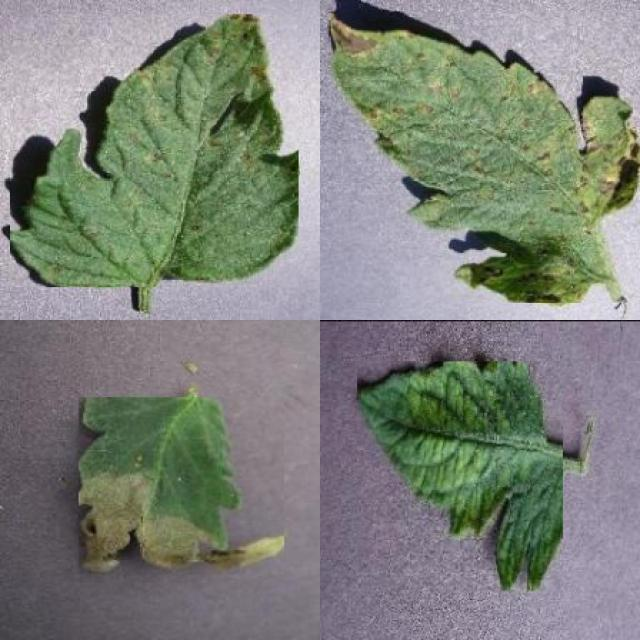Late Blight: (79, 398, 284, 575)
Mosaic Virus: (357, 362, 563, 592)
Septoria: (327, 12, 640, 304), (11, 14, 299, 287)
